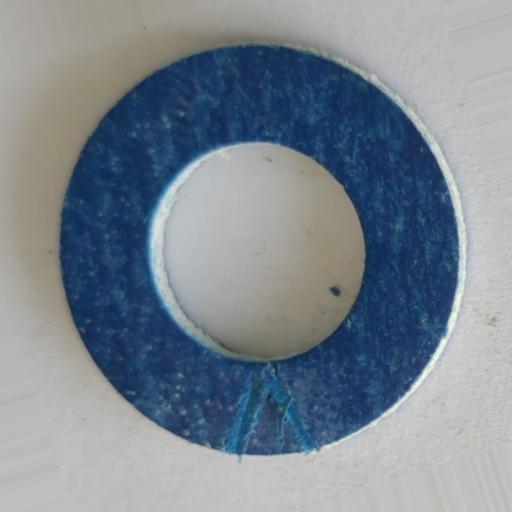defect: (226, 360, 318, 458)
